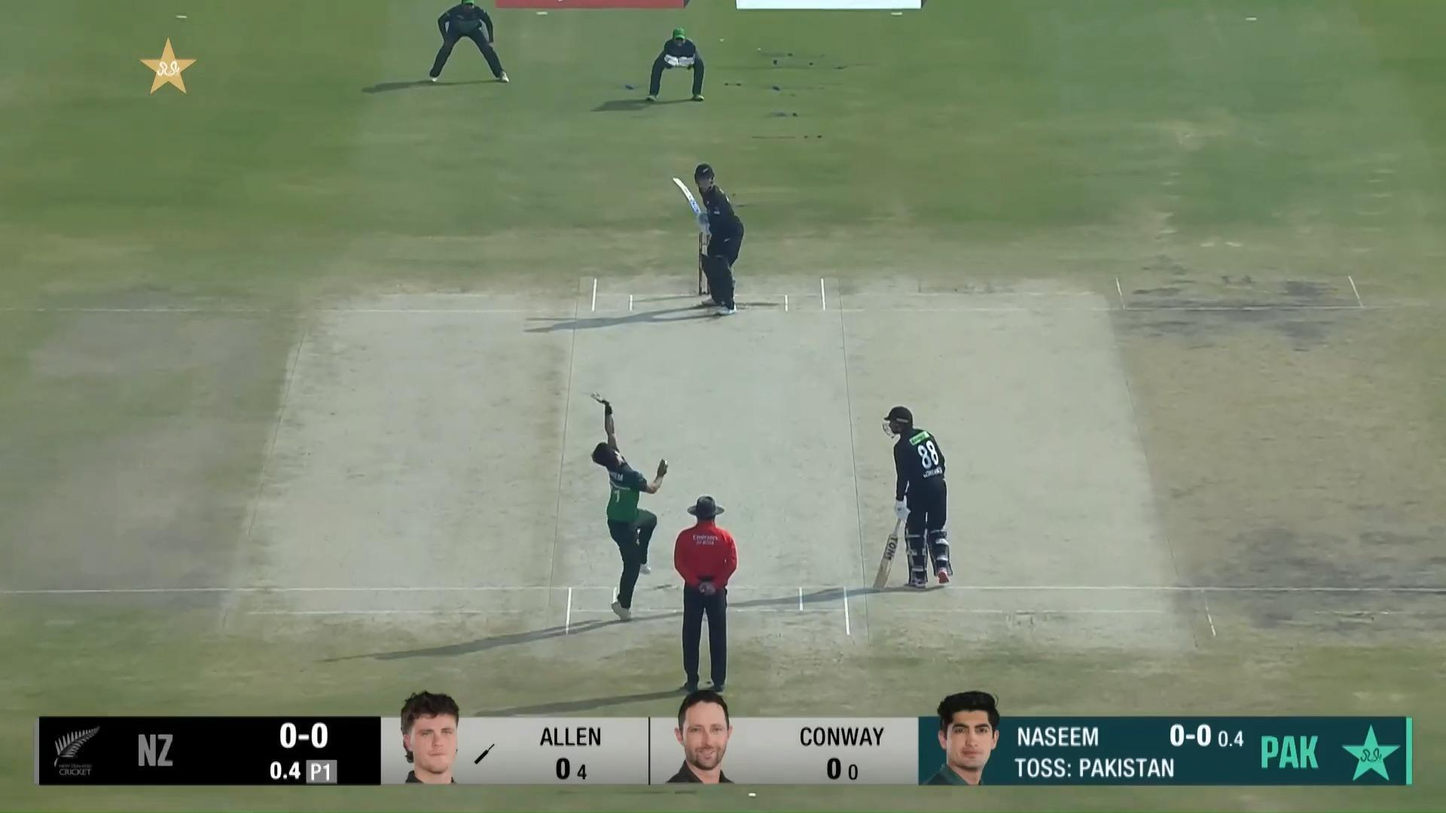BM 1: (672, 161, 745, 317)
BO: (590, 391, 667, 621)
